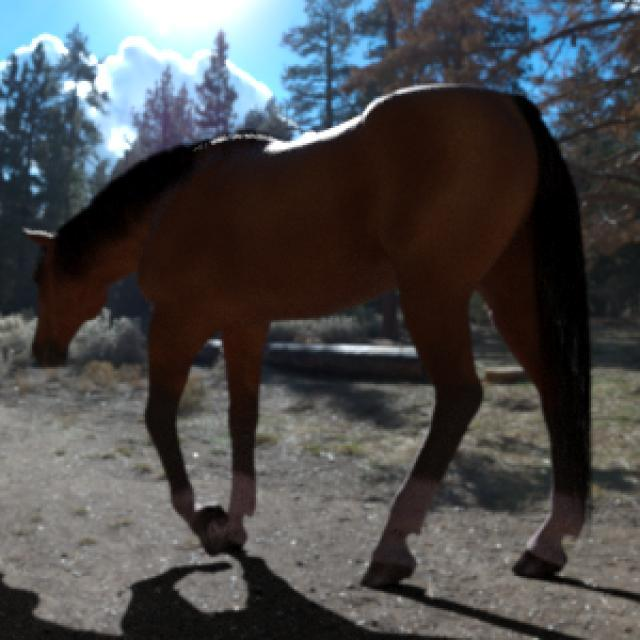horse: (31, 86, 590, 587)
